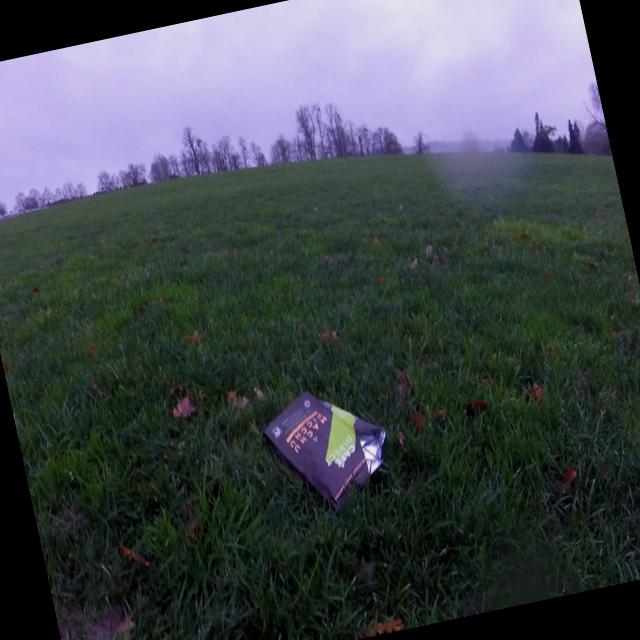Trash: (255, 375, 403, 523)
